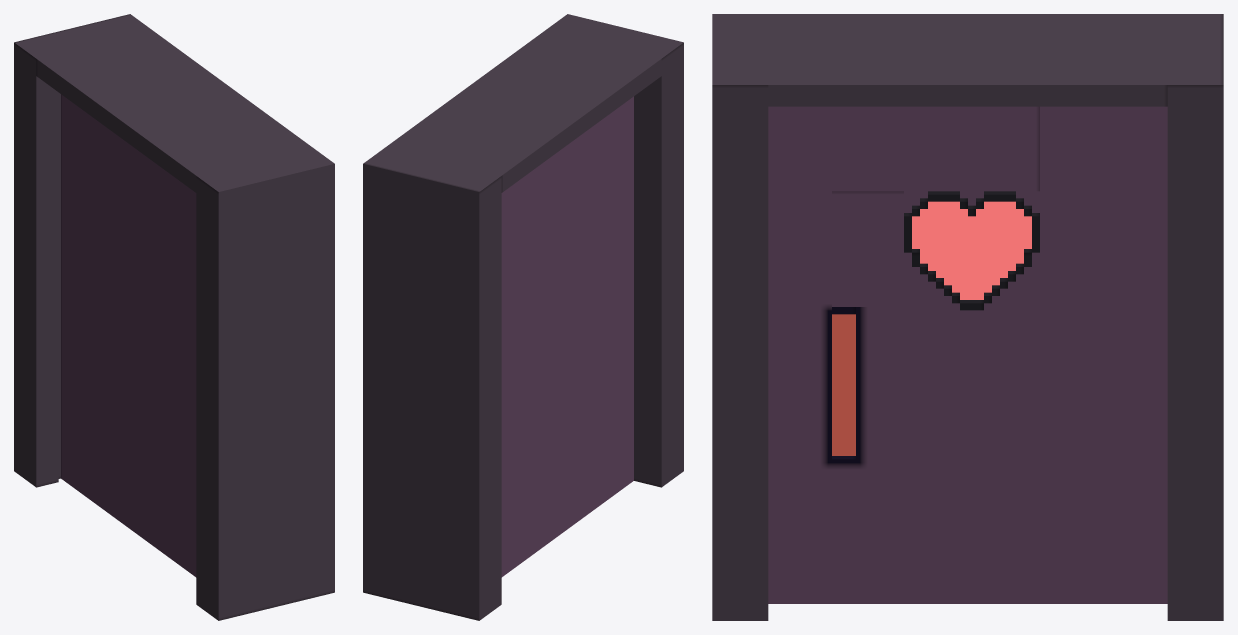
Rendered from dzwi_zajete.dae.
The picture shows the model from 3 angles, left to right: view 1: azimuth 30°, elevation 25°; view 2: azimuth 150°, elevation 25°; view 3: azimuth 270°, elevation 25°; orthographic projection. The views are drawn at different scales.
Parts seen in each view (by area): view 1: Content; view 2: Content; view 3: Content.
Boxes of the visible parts, x1=… form: Content: x1=14, y1=14, x2=334, y2=620; Content: x1=363, y1=14, x2=683, y2=620; Content: x1=712, y1=14, x2=1223, y2=620.
Size of the model in its own units: 21 by 74 by 64.
Materials: 1 (1 with a texture image).
